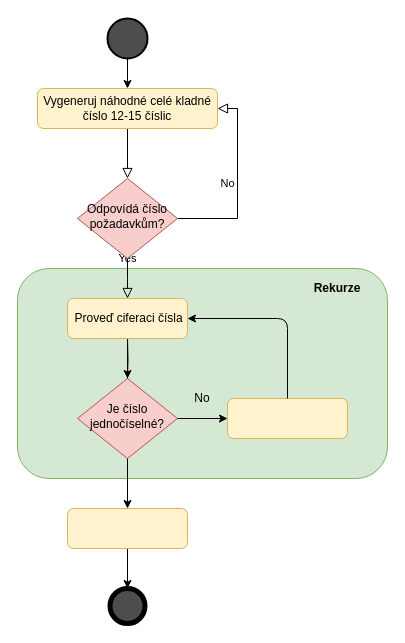
Image size: 405x643. Some labels were removed from this diagram. Here are the shapes that lost their labels. From the top down, the centre of each, then its label:
the point at 287,418: Ulož ciferaci do čísla
the point at 127,528: Vytiskni ciferaci na obrazovku
